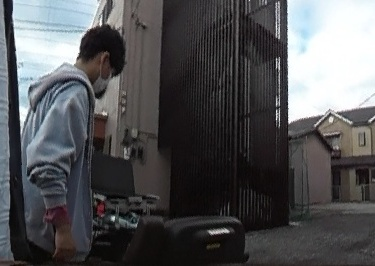person: (14, 21, 131, 266)
